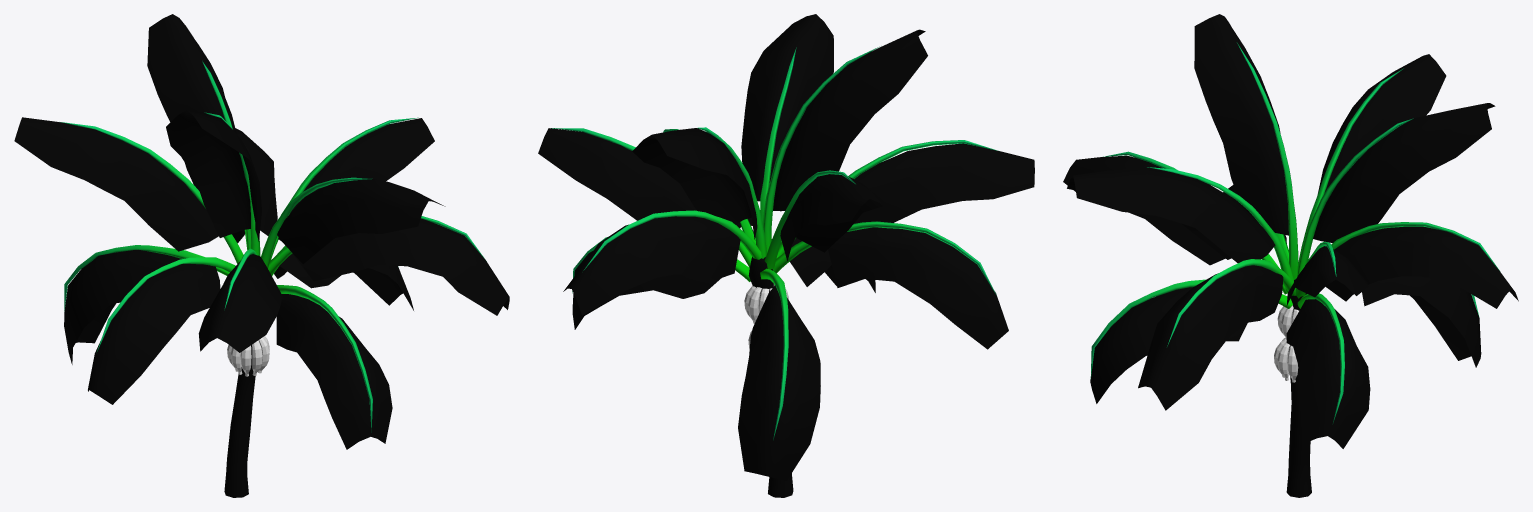
Rendered from Arbol_Banano_01.fbx.
The picture shows the model from 3 angles, left to right: view 1: azimuth 30°, elevation 25°; view 2: azimuth 150°, elevation 25°; view 3: azimuth 270°, elevation 25°; orthographic projection. The views are drawn at different scales.
Parts seen in each view (by area): view 1: Arbol_Banano1; view 2: Arbol_Banano1; view 3: Arbol_Banano1.
Part boxes in pixels (x1=…): Arbol_Banano1: x1=14, y1=14, x2=509, y2=497; Arbol_Banano1: x1=538, y1=14, x2=1034, y2=497; Arbol_Banano1: x1=1063, y1=14, x2=1518, y2=497.
Bounding box in the file's own units: 13.81 × 14.73 × 14.
